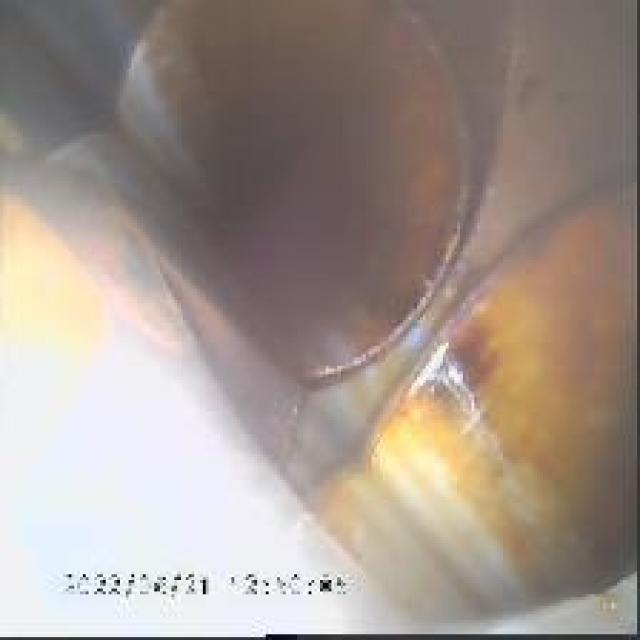joint: (103, 12, 623, 597)
